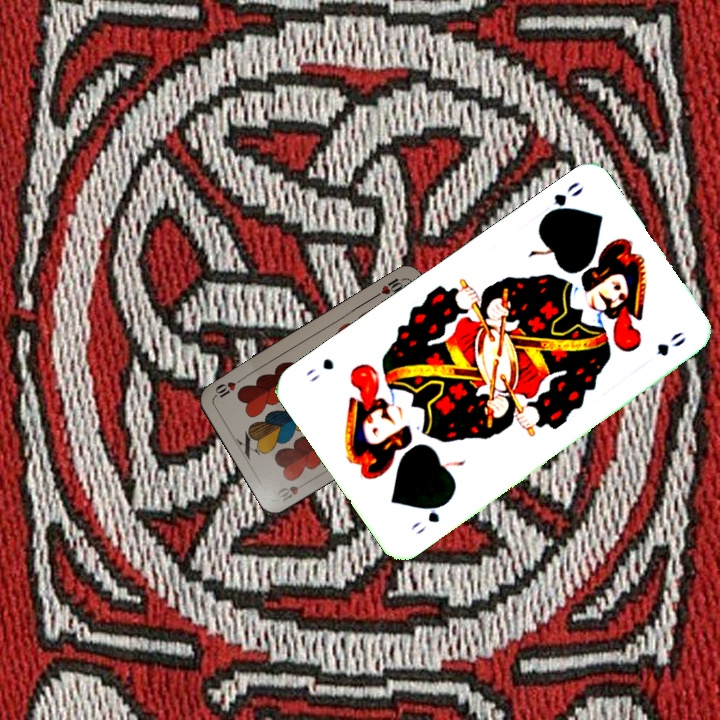GO: (537, 177, 587, 223), (406, 497, 451, 537)
H10: (273, 477, 311, 505), (371, 273, 408, 300)
